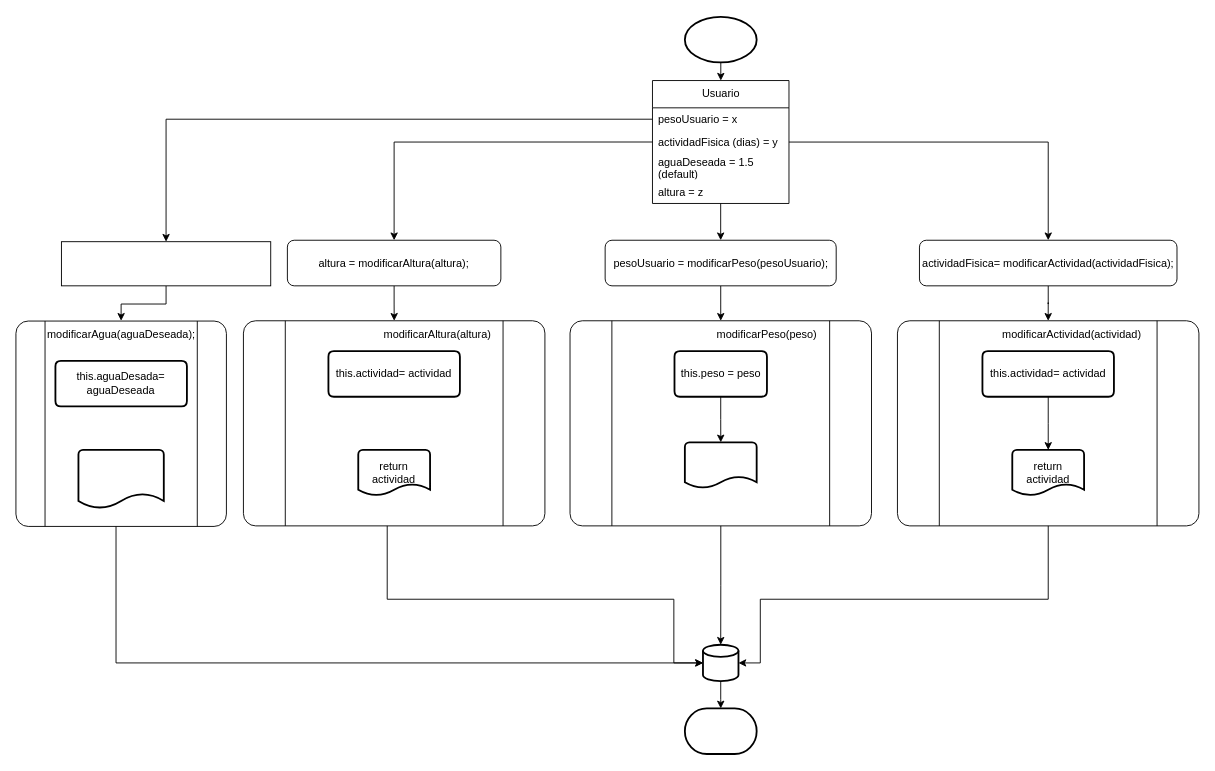
The diagram is 1215 pixels wide and 771 high, and some of its shapes have lost their labels. The centre of each missing label's shape, as x and y in pixels:
"aguaDeseada = modificarAgua(aguaDeseada);" goes at point 166,263.
"Fin" goes at point 720,730.
"Inicio" goes at point 720,39.
"return aguaDeseada" goes at point 120,479.
"return peso" goes at point 720,464.
